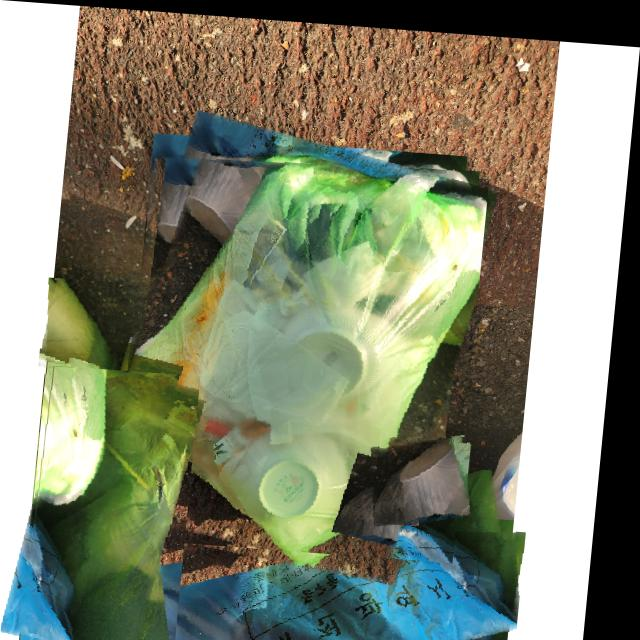general_trashbag: (129, 157, 490, 547), (93, 523, 529, 640), (45, 367, 206, 640), (47, 277, 118, 376)
other_trashbag: (383, 429, 478, 517)
